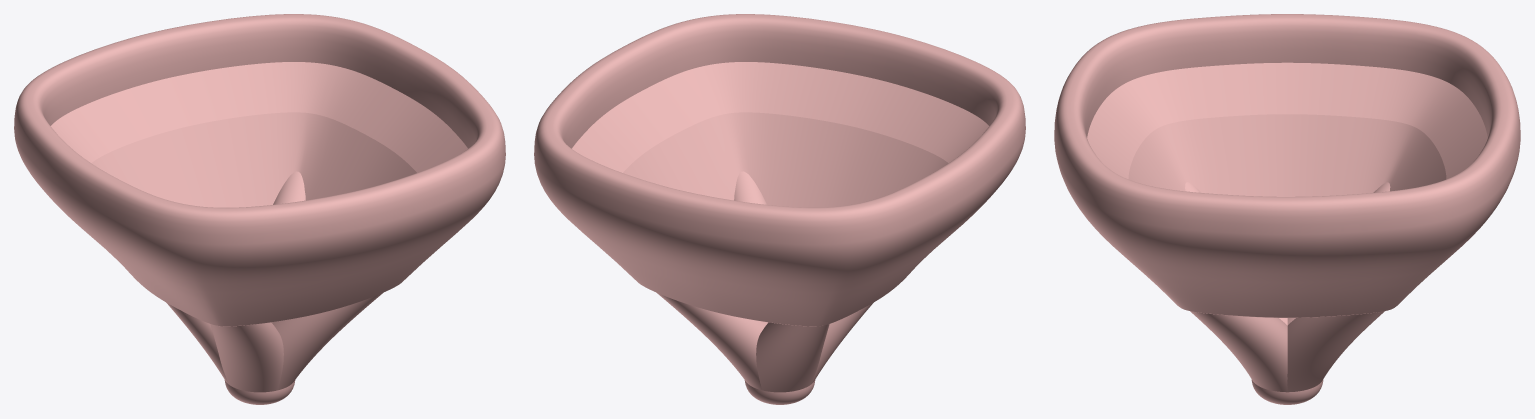
File: Cushion-Bezel.glb
3 views of the same model, side by side, from view 1: azimuth 30°, elevation 25°; view 2: azimuth 150°, elevation 25°; view 3: azimuth 270°, elevation 25° (orthographic).
Parts seen in each view (by area): view 1: Cushion; view 2: Cushion; view 3: Cushion.
Part boxes in pixels (left/top/right/bottom): Cushion: left=14, top=14, right=505, bottom=404; Cushion: left=534, top=14, right=1025, bottom=404; Cushion: left=1054, top=14, right=1520, bottom=404.
Bounding box in the file's own units: 5.79 × 4.01 × 5.82.
